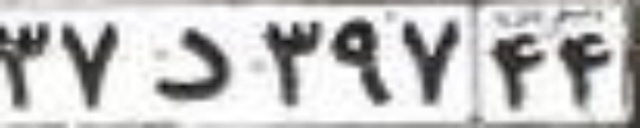3: (259, 21, 320, 105), (0, 18, 53, 107)
4: (555, 32, 614, 109), (489, 31, 546, 109)
7: (58, 19, 123, 109), (398, 18, 459, 103)
9: (326, 16, 389, 105)
dal: (147, 25, 231, 101)
